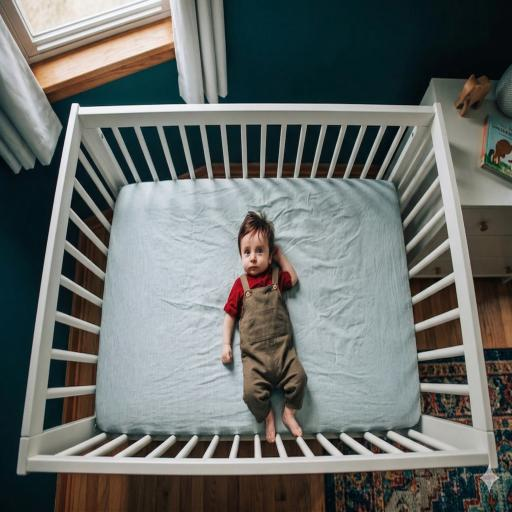baby: (222, 212, 307, 442)
crib: (43, 126, 472, 458)
